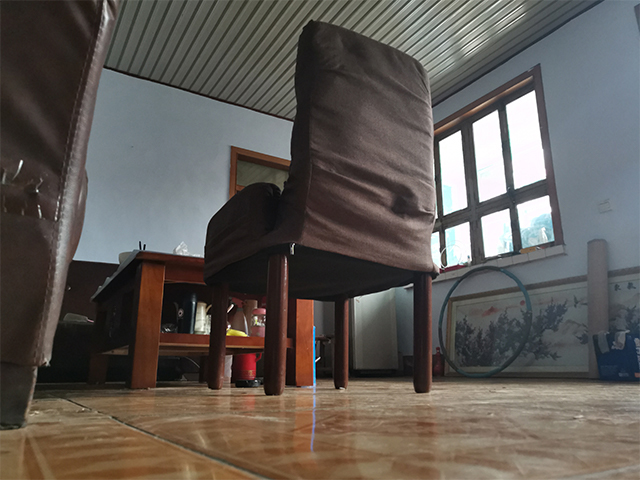sofa: (1, 1, 122, 431)
stool: (201, 17, 440, 397)
table: (81, 247, 317, 391)
